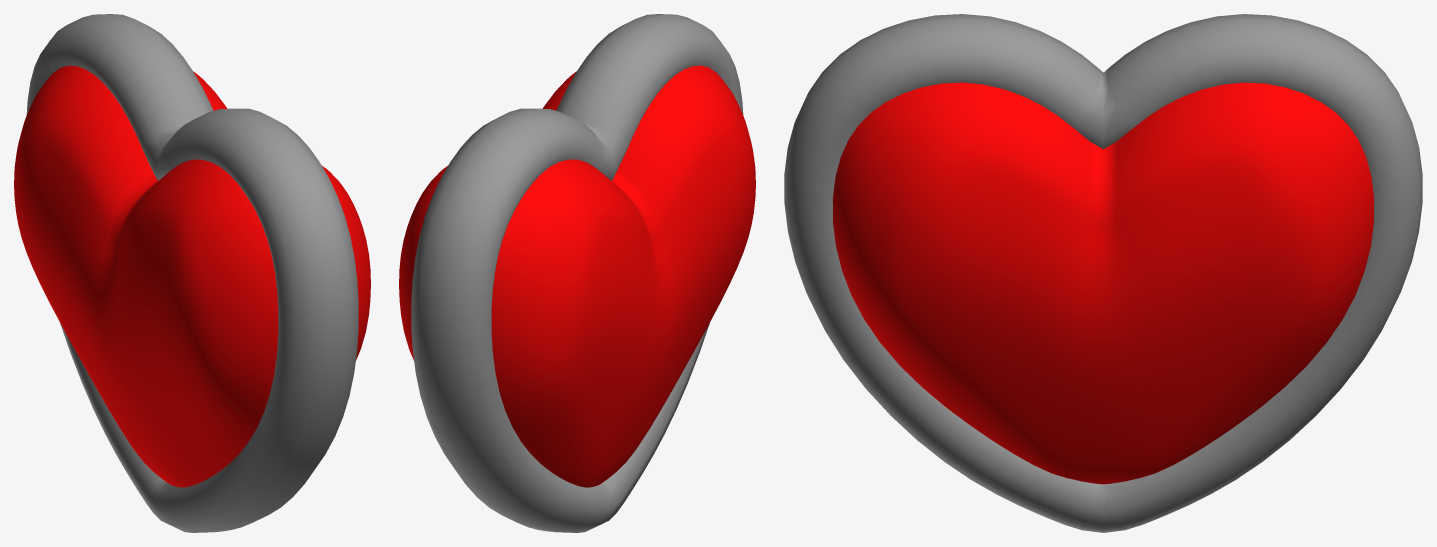
The model's file is heartpiece_01.FBX.
3 renders of one model, left to right at view 1: azimuth 30°, elevation 25°; view 2: azimuth 150°, elevation 25°; view 3: azimuth 270°, elevation 25°, orthographic. The views are drawn at different scales.
Visible parts, largest first — view 1: heartpiece_01; view 2: heartpiece_01; view 3: heartpiece_01.
Boxes of the visible parts, left/top/right/bottom form: heartpiece_01: left=14, top=14, right=370, bottom=532; heartpiece_01: left=399, top=14, right=755, bottom=532; heartpiece_01: left=784, top=14, right=1422, bottom=532.
Bounding box in the file's own units: 23.51 × 54.54 × 62.19.
